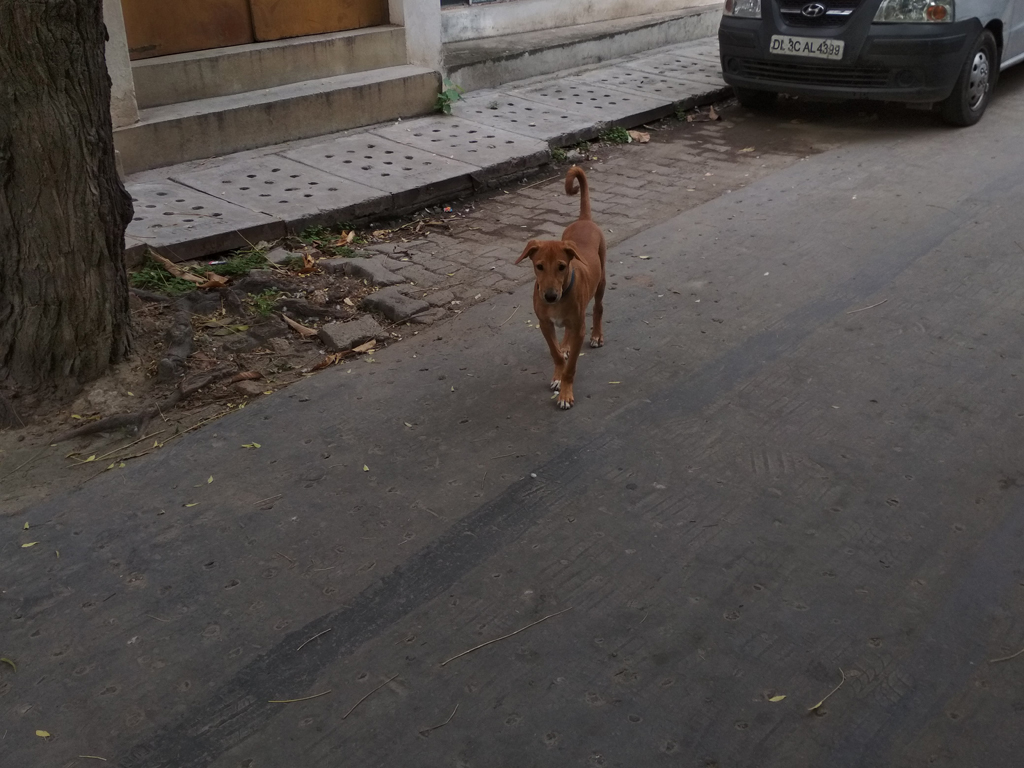dog: (513, 166, 608, 409)
